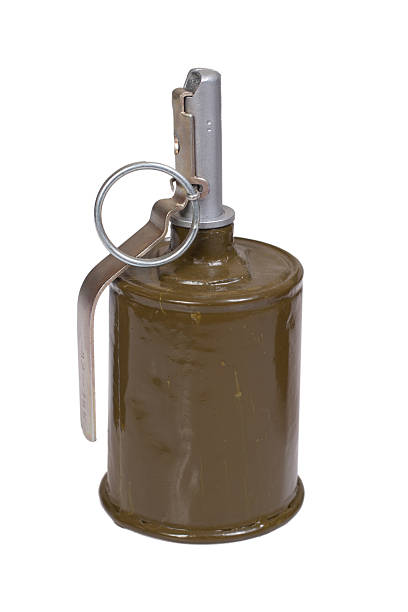e1: (74, 71, 308, 538)
